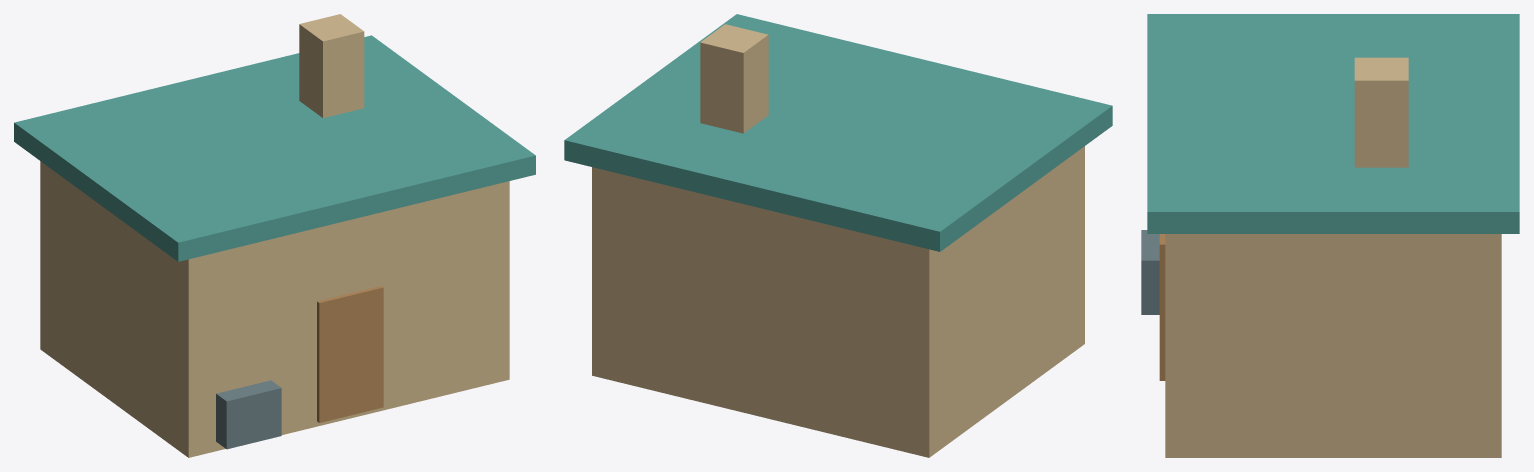
Rendered from Forge.glb.
3 views of the same model, side by side, from view 1: azimuth 30°, elevation 25°; view 2: azimuth 150°, elevation 25°; view 3: azimuth 270°, elevation 25° (orthographic). The views are drawn at different scales.
Visible parts, largest first — view 1: hand-pump-static-forge-stone, hand-pump-static-forge-roof, hand-pump-static-forge-timber, hand-pump-static-forge-iron; view 2: hand-pump-static-forge-stone, hand-pump-static-forge-roof; view 3: hand-pump-static-forge-stone, hand-pump-static-forge-roof, hand-pump-static-forge-iron, hand-pump-static-forge-timber.
Part boxes in pixels (x1=…): hand-pump-static-forge-stone: x1=40, y1=14, x2=509, y2=457; hand-pump-static-forge-roof: x1=14, y1=35, x2=535, y2=261; hand-pump-static-forge-timber: x1=317, y1=286, x2=383, y2=422; hand-pump-static-forge-iron: x1=216, y1=380, x2=281, y2=449; hand-pump-static-forge-stone: x1=592, y1=24, x2=1084, y2=457; hand-pump-static-forge-roof: x1=564, y1=14, x2=1112, y2=251; hand-pump-static-forge-stone: x1=1165, y1=57, x2=1501, y2=457; hand-pump-static-forge-roof: x1=1147, y1=14, x2=1519, y2=233; hand-pump-static-forge-iron: x1=1141, y1=230, x2=1159, y2=314; hand-pump-static-forge-timber: x1=1159, y1=234, x2=1165, y2=380.
Size of the model in its own units: 3.9 by 3.15 by 3.15.
